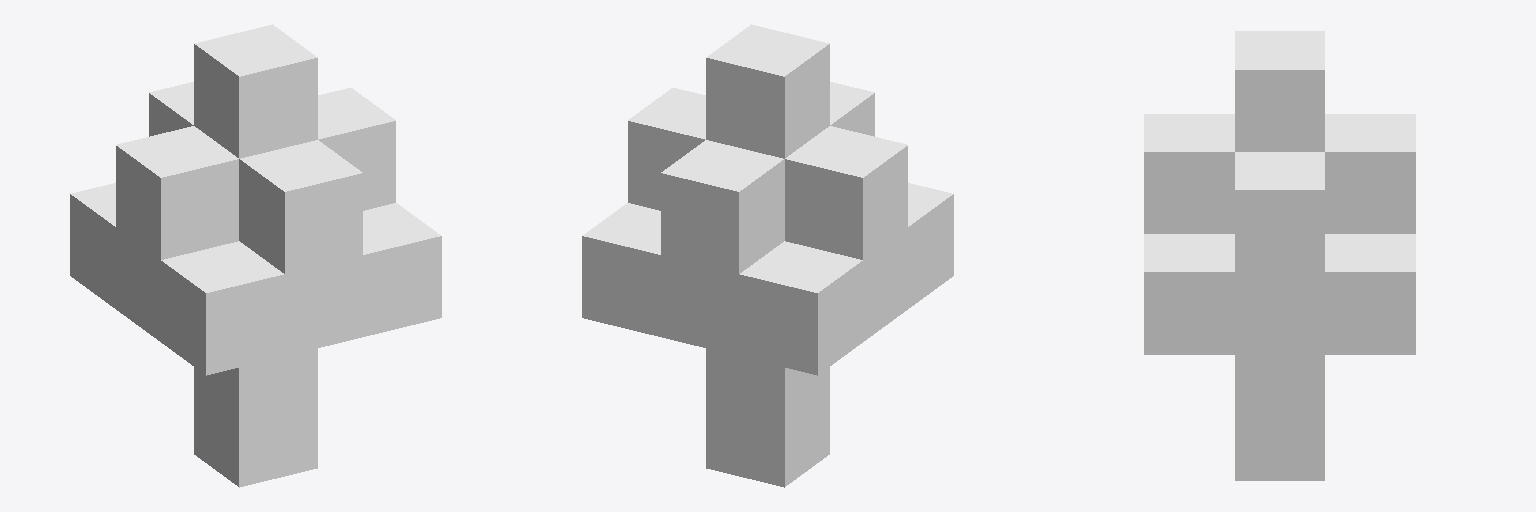
Rendered from overworld-23-props_tree.obj.
The picture shows the model from 3 angles: view 1: azimuth 30°, elevation 25°; view 2: azimuth 150°, elevation 25°; view 3: azimuth 270°, elevation 25°; orthographic projection.
Visible parts, largest first — view 1: props_tree; view 2: props_tree; view 3: props_tree.
Part boxes in pixels (left/top/right/bottom): props_tree: left=70, top=24, right=441, bottom=487; props_tree: left=582, top=24, right=953, bottom=487; props_tree: left=1144, top=31, right=1415, bottom=480.
Size of the model in its own units: 0.3 by 0.5 by 0.3.